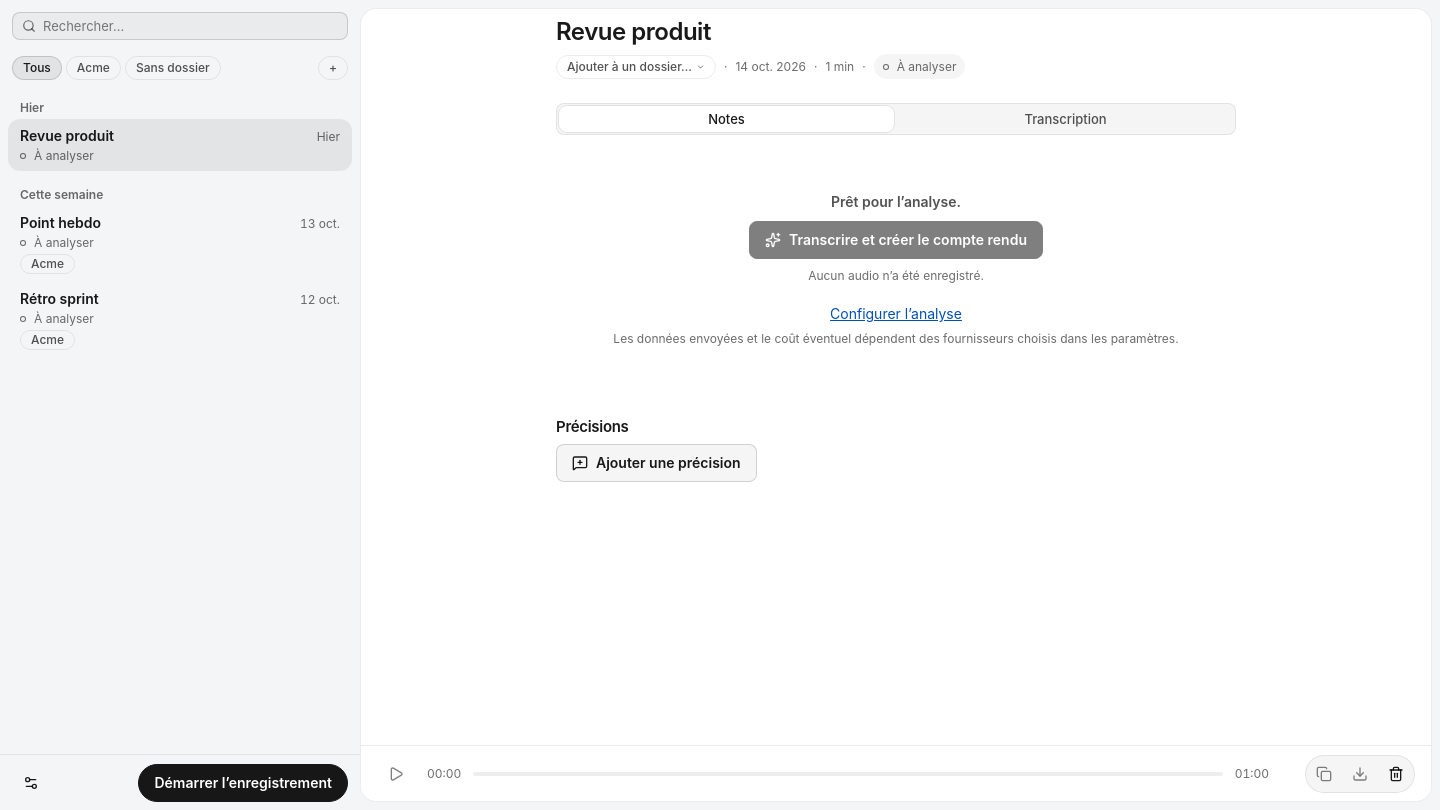
Test: After a deletion › stays inside the filtered folder
Click the button "Acme" at [93, 68], box [66,56,121,80]
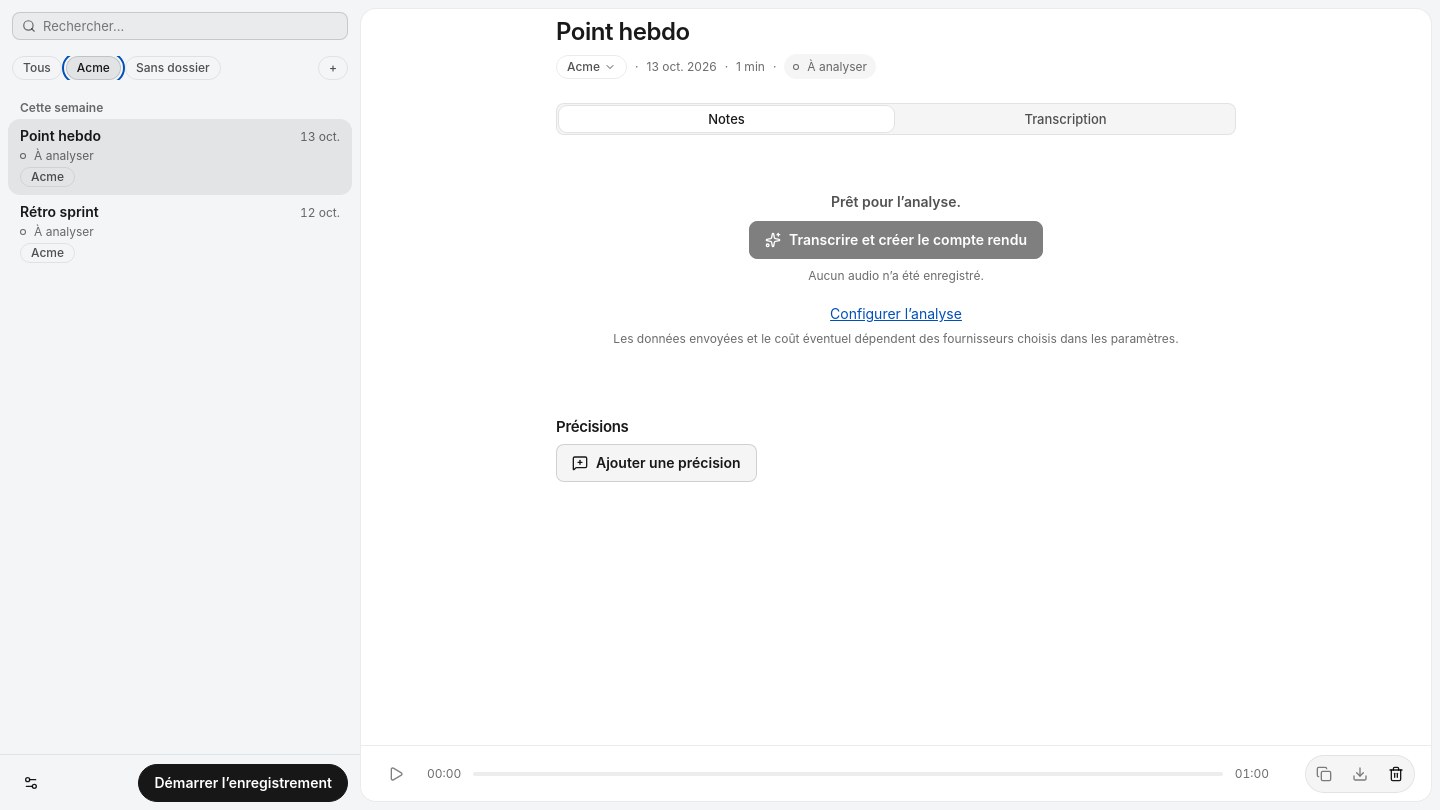
Click the button named "Supprimer la réunion" at [1396, 774], box [1380,758,1412,790]
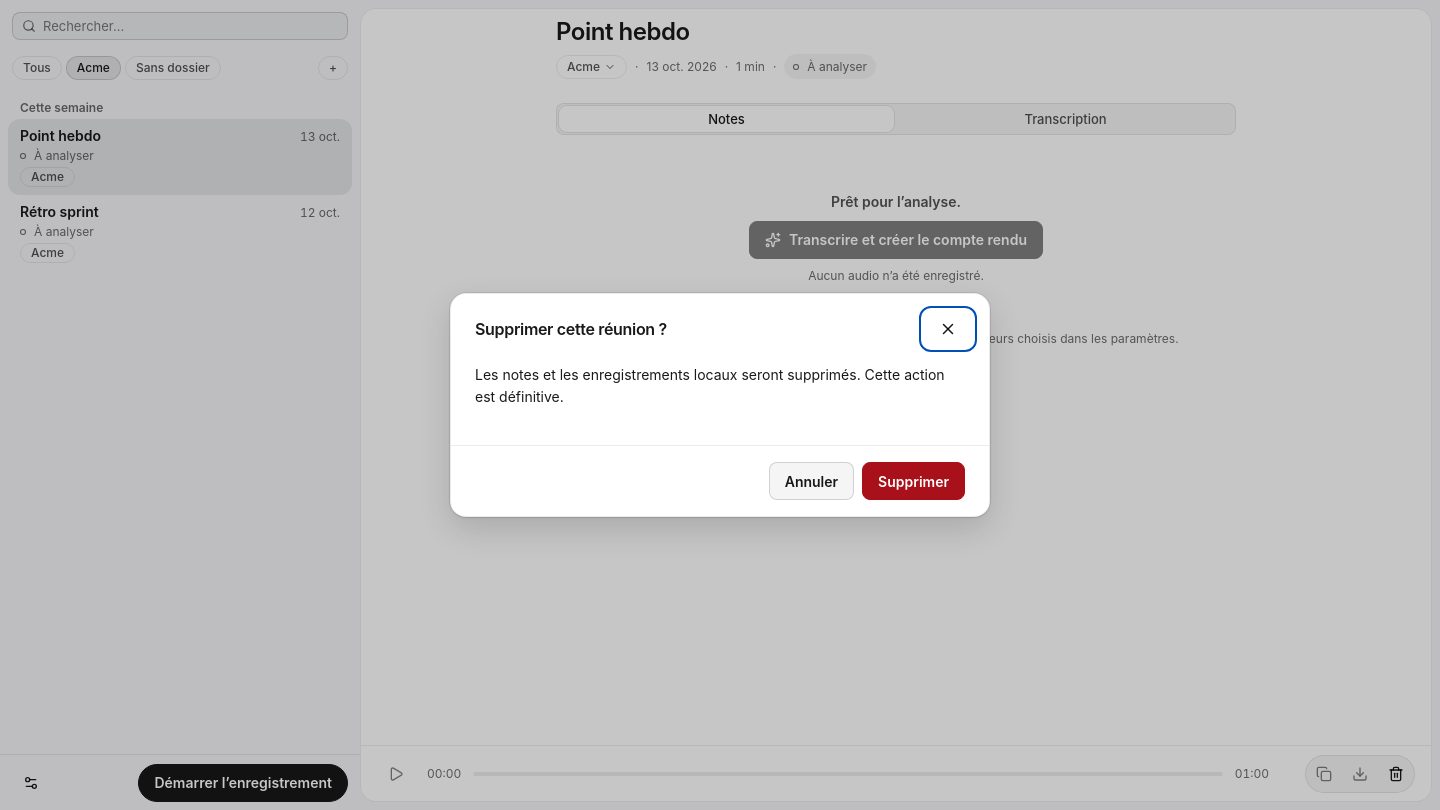
Click the button "Supprimer" at [914, 481], box [862,462,965,500]
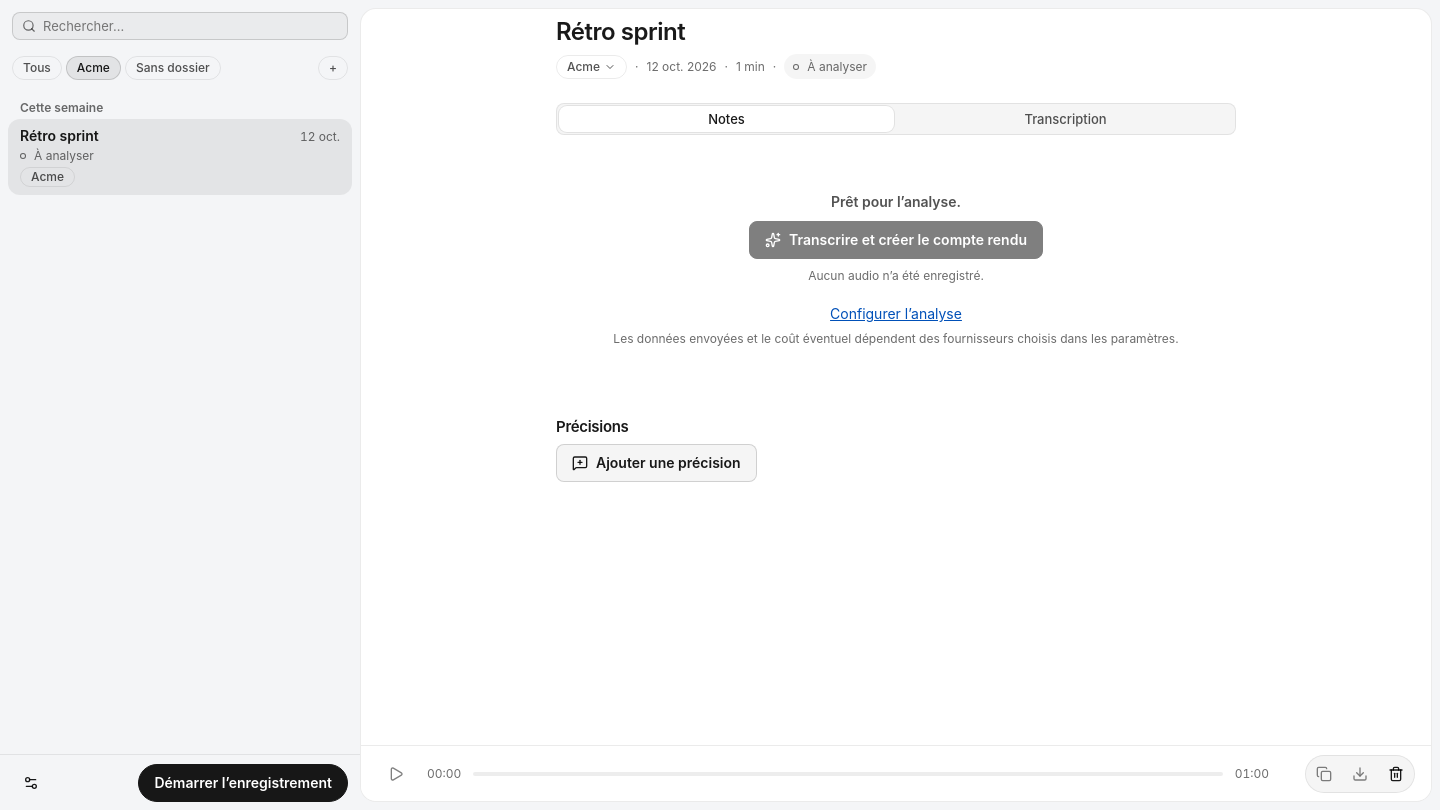
Result: the heading "Rétro sprint" is shown at [556,17,685,46]
